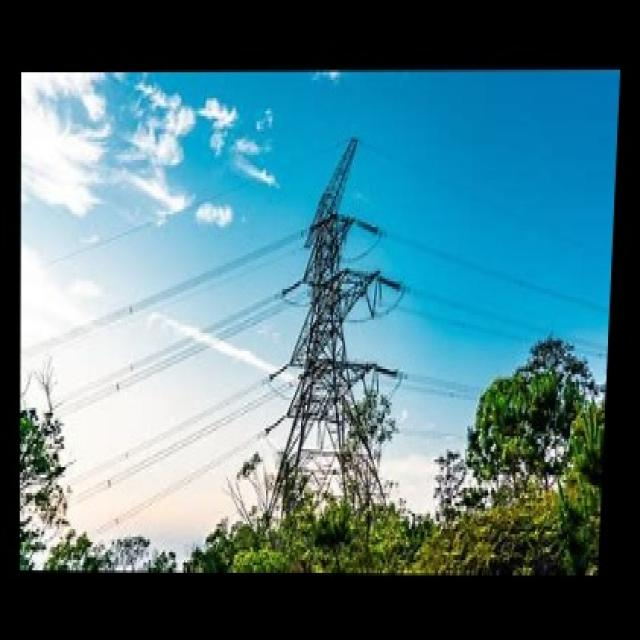utility poles: (458, 283, 566, 471), (308, 330, 412, 520)
